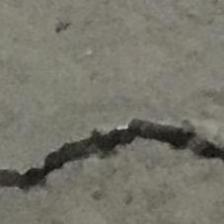Crack: (0, 111, 224, 212)
